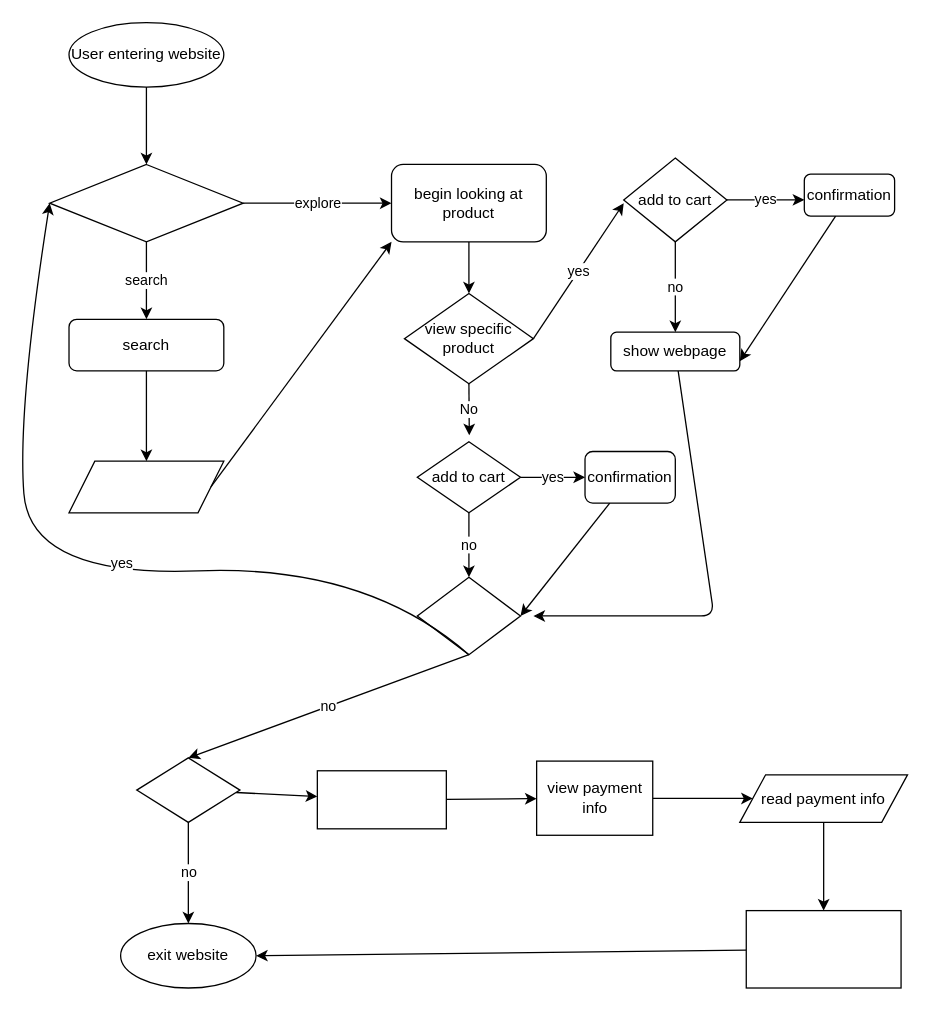
The diagram is 930 pixels wide and 1011 high, and some of its shapes have lost their labels. Here are the shapes that lost their labels. From the top down, the centre of each, then its label:
At [145,202]: "search or explore".
At [146,486]: "read input".
At [468,615]: "continue shopping".
At [187,789]: "checkout".
At [381,799]: "viw cart screen".
At [823,948]: "send and show orderinformation through display and email".
